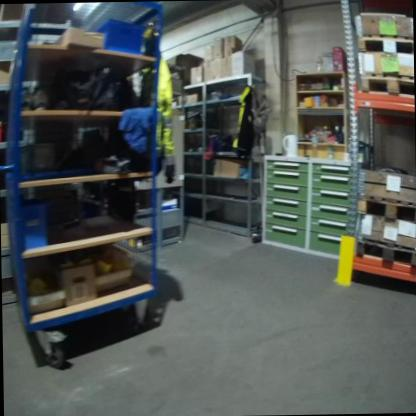pallet: (353, 233, 416, 272), (356, 191, 415, 223), (356, 69, 413, 99), (357, 31, 413, 57)
